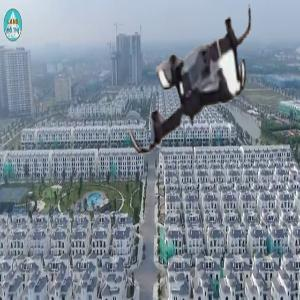drone: (118, 13, 265, 160)
